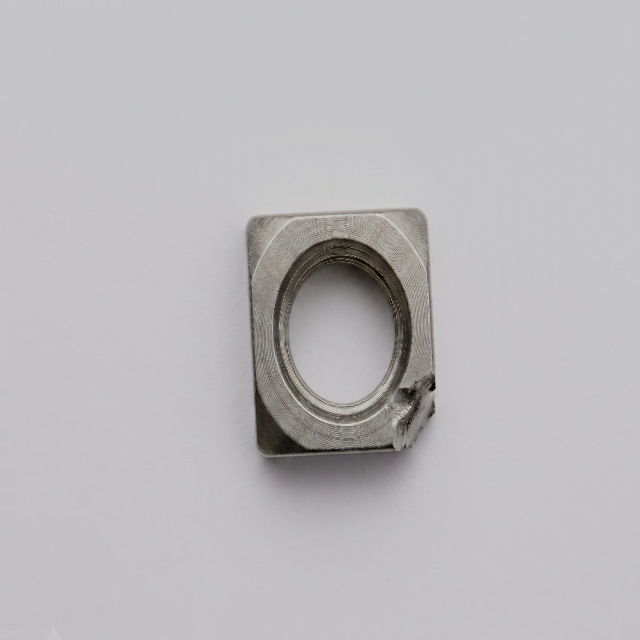defect: (390, 365, 446, 451)
